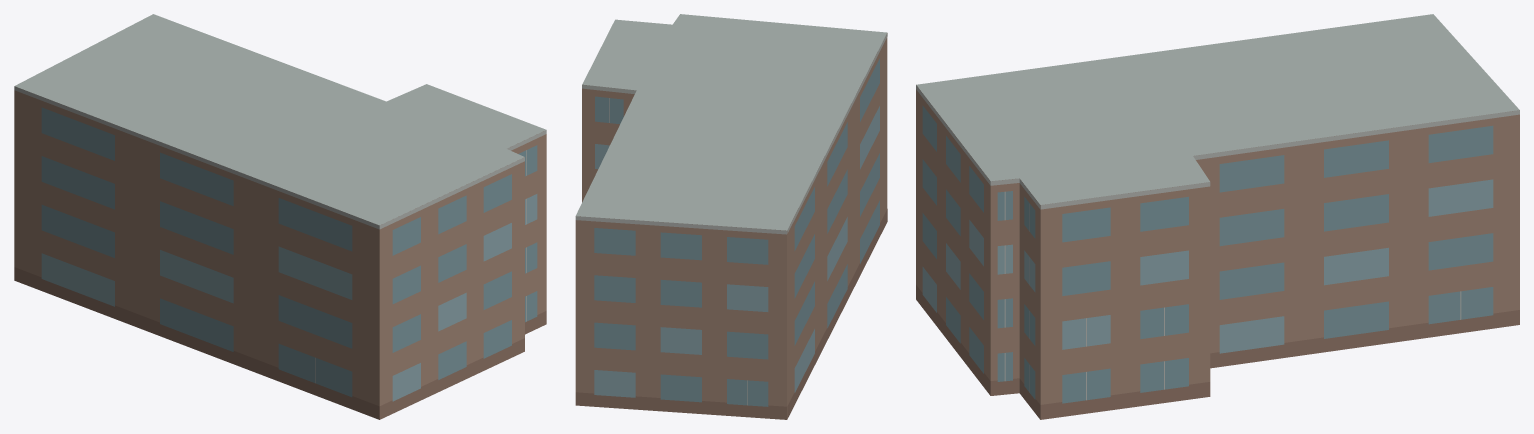
File: survey-upis-32903156.glb
3 renders of one model, left to right at view 1: azimuth 30°, elevation 25°; view 2: azimuth 150°, elevation 25°; view 3: azimuth 270°, elevation 25°, orthographic. The views are drawn at different scales.
Parts seen in each view (by area): view 1: survey-upis-32903156.tmp; view 2: survey-upis-32903156.tmp; view 3: survey-upis-32903156.tmp.
Boxes of the visible parts, box(x1,y1,x2,y2) form: survey-upis-32903156.tmp: box(14, 14, 546, 419); survey-upis-32903156.tmp: box(575, 14, 887, 419); survey-upis-32903156.tmp: box(916, 14, 1519, 419).
Bounding box in the file's own units: 22.14 × 11.6 × 29.56.
